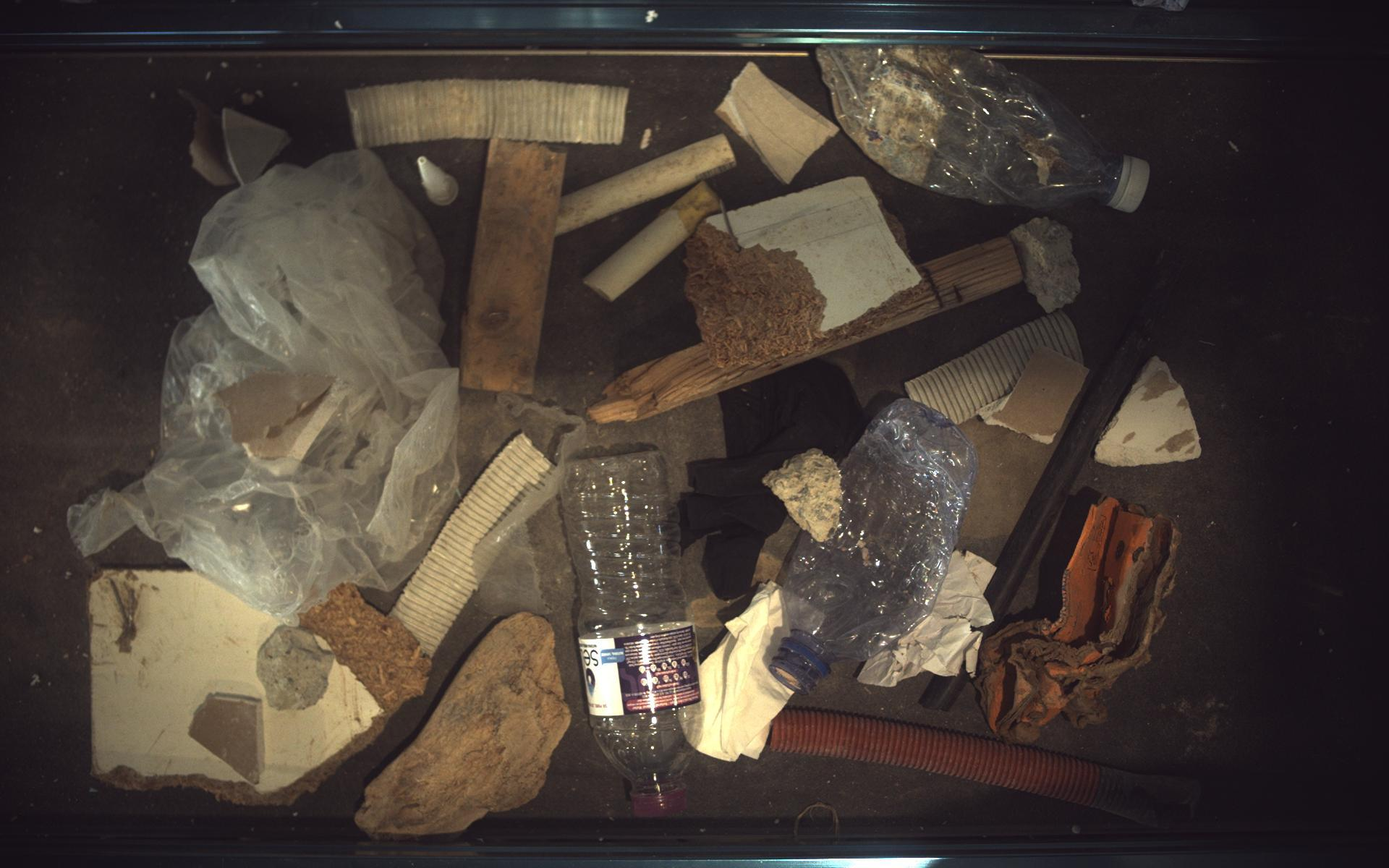concrete: (764, 448, 844, 542), (1012, 216, 1083, 312), (256, 626, 334, 711)
general_w: (67, 149, 459, 618), (771, 399, 979, 694), (818, 44, 1150, 211), (561, 445, 705, 819), (979, 498, 1183, 743), (681, 359, 866, 600), (474, 393, 587, 616), (681, 583, 794, 763), (860, 551, 997, 688)
gypsum_board: (717, 61, 841, 182), (217, 372, 347, 476), (1097, 357, 1204, 467), (179, 88, 290, 185), (980, 346, 1091, 443), (188, 694, 263, 785)
pipes: (988, 249, 1192, 621), (769, 710, 1202, 827), (391, 433, 559, 657), (907, 310, 1085, 425), (346, 77, 629, 147), (556, 132, 736, 234), (584, 179, 723, 301), (922, 676, 967, 712)
plastic: (417, 155, 458, 205)
wood: (587, 237, 1025, 423), (88, 572, 430, 807), (355, 613, 572, 838), (686, 176, 924, 368), (461, 137, 566, 394)
